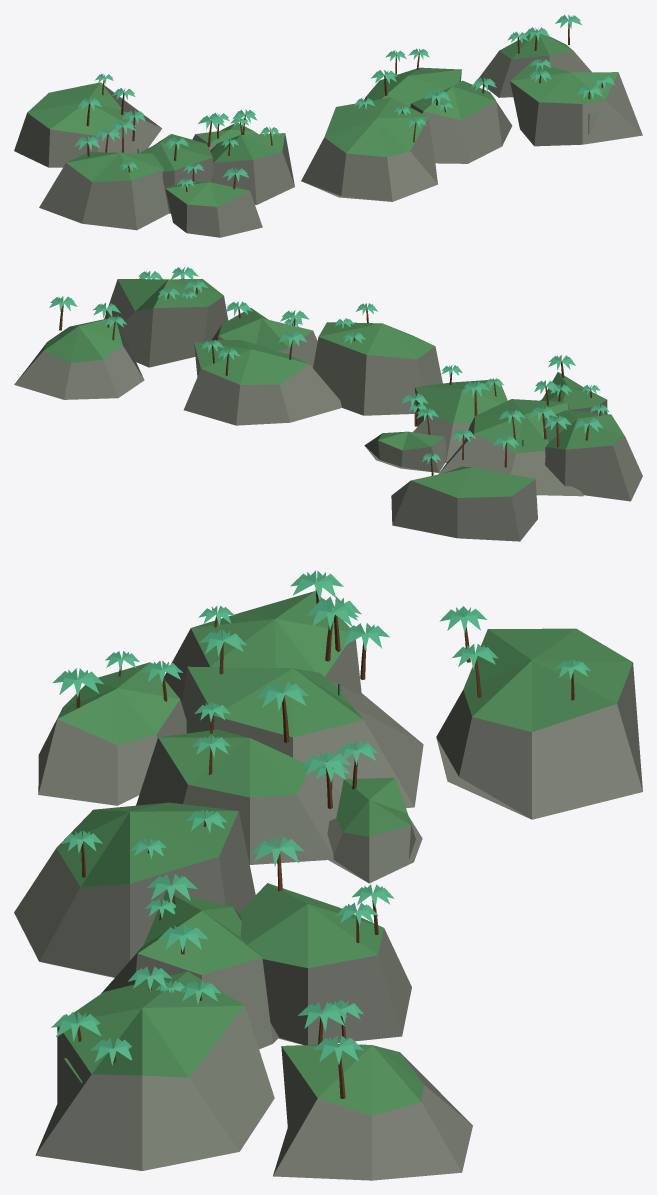
Rendered from W3_Mid_MossRocks.fbx.
3 renders of one model, top to bottom at view 1: azimuth 30°, elevation 25°; view 2: azimuth 150°, elevation 25°; view 3: azimuth 270°, elevation 25°, orthographic. The views are drawn at different scales.
Visible parts, largest first — view 1: W3_Mid_MossRocks; view 2: W3_Mid_MossRocks; view 3: W3_Mid_MossRocks.
Part boxes in pixels (x1,y1,x2,y2): W3_Mid_MossRocks: (14,14,642,237); W3_Mid_MossRocks: (14,267,642,541); W3_Mid_MossRocks: (14,570,642,1180).
Size of the model in its own units: 110 by 13.43 by 55.51.
